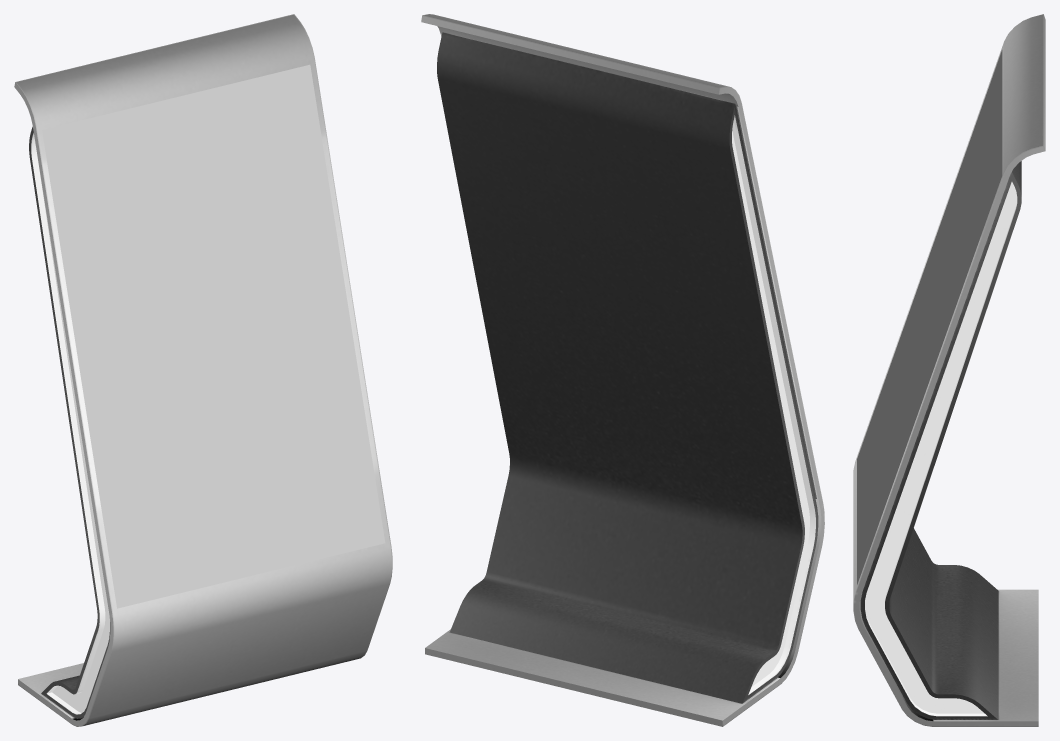
3 renders of one model, left to right at view 1: azimuth 30°, elevation 25°; view 2: azimuth 150°, elevation 25°; view 3: azimuth 270°, elevation 25°, orthographic. The views are drawn at different scales.
Parts seen in each view (by area): view 1: Flat_08011741, Plane, Plane.001; view 2: Plane.001, Plane, Flat_08011741; view 3: Plane.001, Flat_08011741, Plane.
Part boxes in pixels (<box>): Flat_08011741: <box>42,64,385,608</box>; Plane: <box>14,14,392,726</box>; Plane.001: <box>29,127,110,718</box>; Plane.001: <box>437,32,818,703</box>; Plane: <box>421,14,824,726</box>; Flat_08011741: <box>736,106,816,498</box>; Plane.001: <box>860,161,1021,719</box>; Flat_08011741: <box>857,50,1002,584</box>; Plane: <box>853,14,1045,726</box>.
Size of the model in its own units: 0.8678 by 1.79 by 0.5349.
4 materials, 3 textured.
